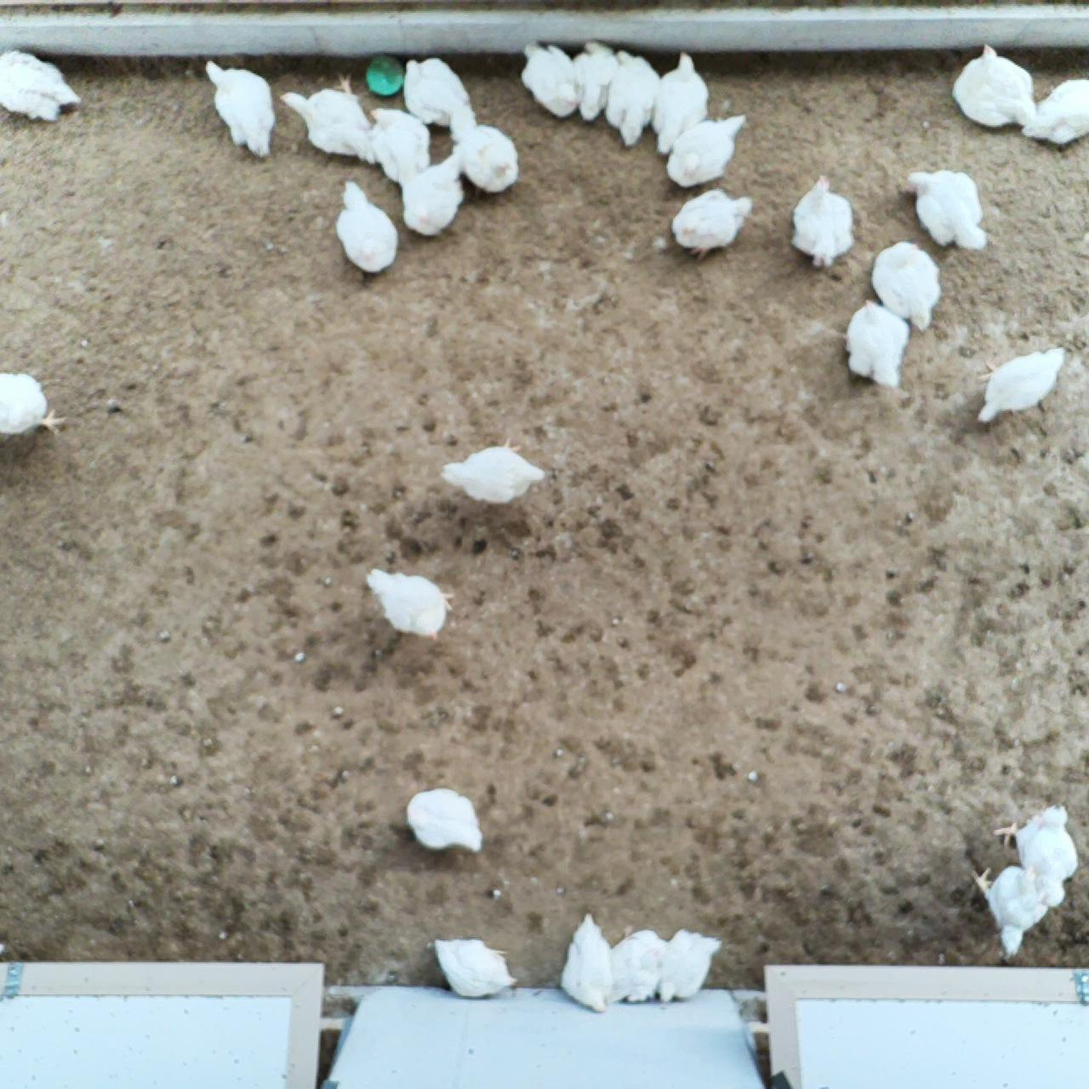chicken: (993, 800, 1078, 912), (279, 72, 377, 165), (973, 342, 1075, 427), (967, 860, 1053, 960), (951, 39, 1040, 134), (200, 57, 277, 162), (438, 437, 546, 511), (904, 167, 996, 253), (364, 561, 455, 644), (837, 292, 913, 391), (872, 238, 946, 337), (664, 112, 755, 188), (671, 186, 760, 262), (0, 47, 83, 128), (600, 922, 678, 1007), (653, 48, 712, 160), (427, 929, 516, 1003), (399, 148, 470, 240), (446, 109, 522, 194), (787, 170, 855, 265), (333, 179, 402, 272), (362, 99, 434, 186), (557, 911, 616, 1015), (603, 45, 661, 148), (403, 784, 486, 854), (402, 51, 473, 131), (657, 925, 724, 1005), (564, 35, 624, 124), (0, 368, 66, 448), (1023, 72, 1089, 152), (518, 42, 583, 118)
